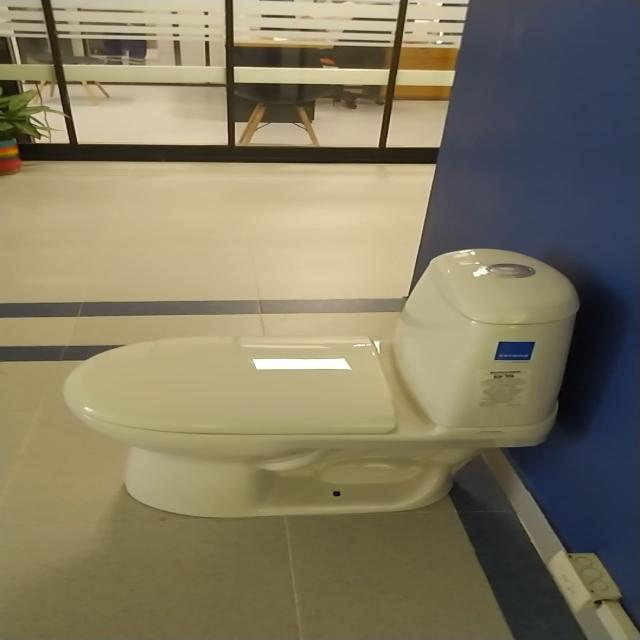toilet: (56, 242, 590, 522)
